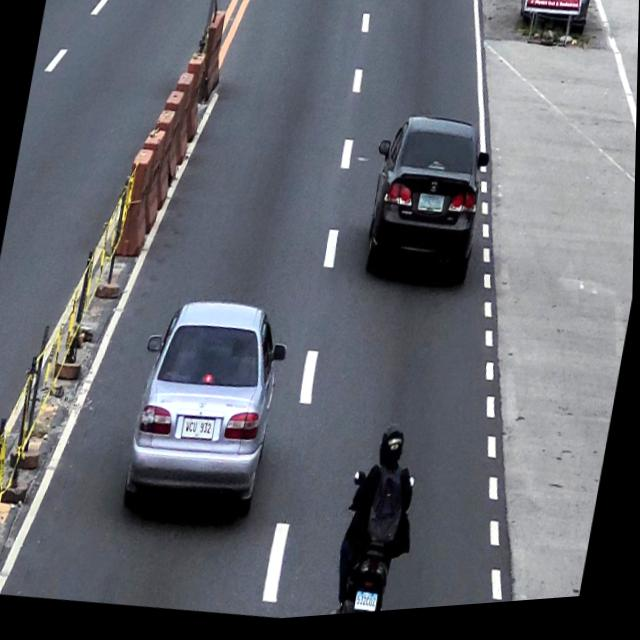Car: (117, 290, 297, 539), (356, 110, 498, 304)
License-Plate: (182, 418, 217, 446), (418, 198, 446, 221), (356, 595, 381, 619)
Motorcycle: (331, 468, 419, 620)
